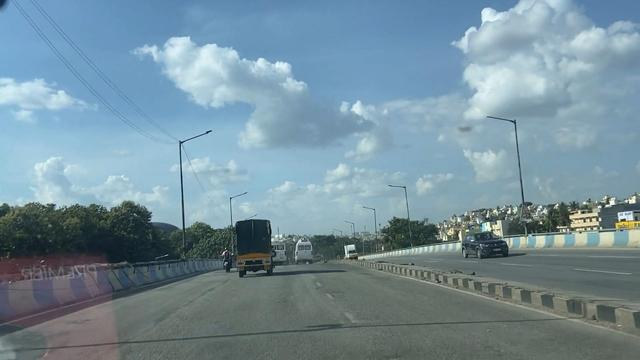HMV: (231, 215, 278, 277), (220, 247, 233, 273)
RoadDamages: (316, 303, 412, 360)
